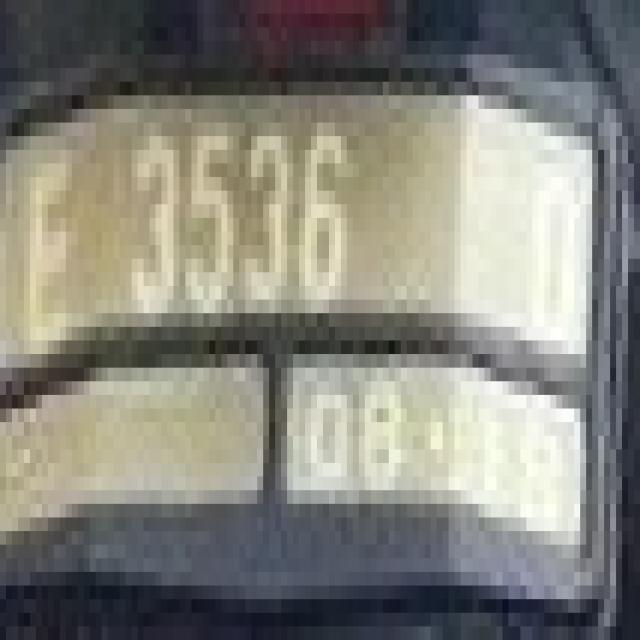plate: (0, 68, 604, 558)
